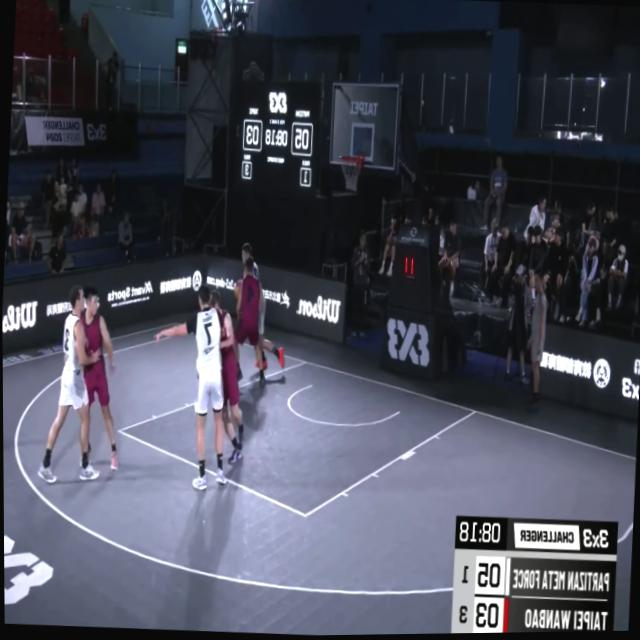ball: (232, 277, 248, 302)
hoop: (337, 153, 365, 193)
player: (143, 282, 237, 493), (31, 270, 108, 485), (73, 287, 126, 475), (196, 289, 252, 465), (233, 244, 293, 370), (227, 254, 272, 387)
